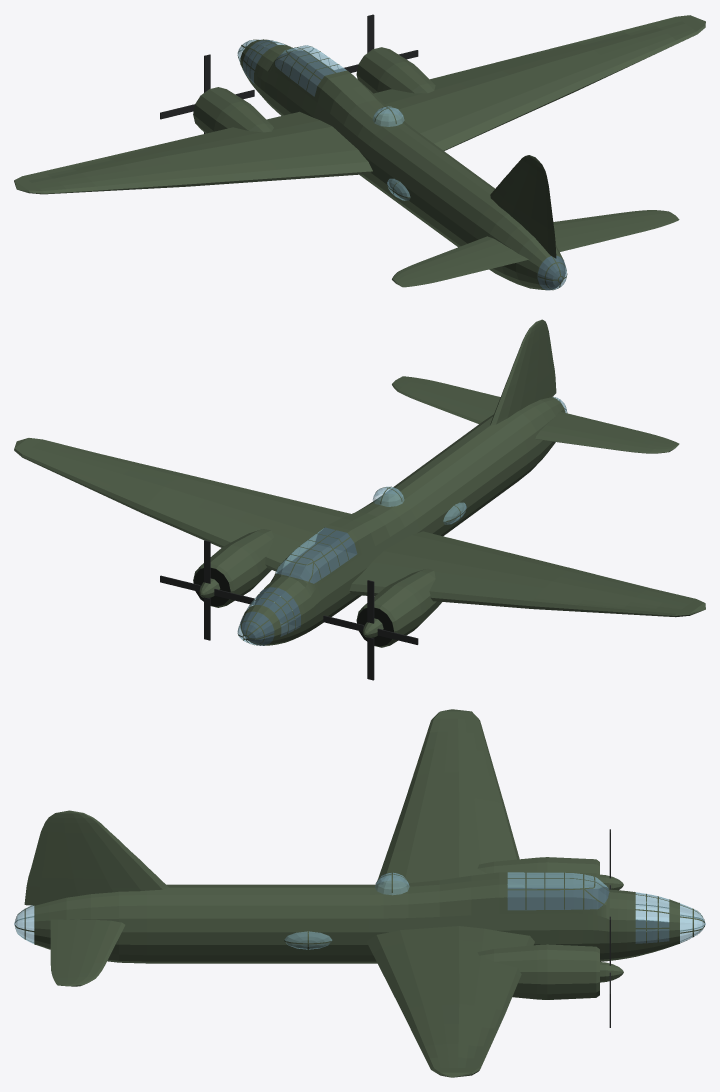
The picture shows the model from 3 angles, top to bottom: view 1: azimuth 30°, elevation 25°; view 2: azimuth 150°, elevation 25°; view 3: azimuth 270°, elevation 25°; orthographic projection. The views are drawn at different scales.
Parts seen in each view (by area): view 1: G4M_Wing, G4M_Fuselage, G4M_Tailplane, G4M_Fin, G4M_NacelleR, G4M_NacelleL, G4M_Canopy, G4M_Frames, G4M_TailGlass, G4M_Prop2, G4M_NoseGlass2, G4M_Prop1 (+1 smaller); view 2: G4M_Wing, G4M_Fuselage, G4M_Tailplane, G4M_Fin, G4M_NacelleL, G4M_NacelleR, G4M_Canopy, G4M_Frames, G4M_Prop2, G4M_Prop1, G4M_NoseGlass2, G4M_NoseGlass; view 3: G4M_Fuselage, G4M_Wing, G4M_Fin, G4M_NacelleR, G4M_Tailplane, G4M_Canopy, G4M_NacelleL, G4M_Frames, G4M_NoseGlass2, G4M_NoseGlass, G4M_BlisterR, G4M_Turret (+1 smaller).
Boxes of the visible parts, bbox=[...] form: G4M_Wing: bbox=[14, 15, 705, 194]; G4M_Fuselage: bbox=[240, 39, 565, 290]; G4M_Tailplane: bbox=[392, 210, 679, 287]; G4M_Fin: bbox=[490, 155, 556, 258]; G4M_NacelleR: bbox=[356, 47, 435, 93]; G4M_NacelleL: bbox=[193, 87, 273, 133]; G4M_Canopy: bbox=[275, 45, 346, 96]; G4M_Frames: bbox=[237, 39, 567, 290]; G4M_TailGlass: bbox=[537, 256, 566, 290]; G4M_Prop2: bbox=[160, 54, 254, 133]; G4M_NoseGlass2: bbox=[243, 40, 284, 83]; G4M_Prop1: bbox=[335, 14, 418, 72]; G4M_Wing: bbox=[14, 438, 705, 617]; G4M_Fuselage: bbox=[240, 397, 565, 645]; G4M_Tailplane: bbox=[392, 376, 679, 453]; G4M_Fin: bbox=[490, 319, 556, 425]; G4M_NacelleL: bbox=[356, 568, 441, 647]; G4M_NacelleR: bbox=[193, 529, 273, 607]; G4M_Canopy: bbox=[275, 527, 357, 583]; G4M_Frames: bbox=[237, 396, 567, 645]; G4M_Prop2: bbox=[323, 580, 418, 680]; G4M_Prop1: bbox=[160, 540, 254, 640]; G4M_NoseGlass2: bbox=[245, 587, 300, 636]; G4M_NoseGlass: bbox=[237, 611, 274, 645]; G4M_Fuselage: bbox=[35, 872, 678, 963]; G4M_Wing: bbox=[366, 709, 534, 1077]; G4M_Fin: bbox=[24, 810, 168, 905]; G4M_NacelleR: bbox=[477, 944, 599, 999]; G4M_Tailplane: bbox=[50, 919, 125, 986]; G4M_Canopy: bbox=[507, 872, 609, 910]; G4M_NacelleL: bbox=[477, 857, 599, 888]; G4M_Frames: bbox=[15, 872, 704, 949]; G4M_NoseGlass2: bbox=[635, 892, 669, 943]; G4M_NoseGlass: bbox=[680, 903, 705, 943]; G4M_BlisterR: bbox=[284, 931, 331, 949]; G4M_Turret: bbox=[375, 872, 409, 895].
Bounding box in the file's own units: 24.89 × 5.42 × 19.75.
